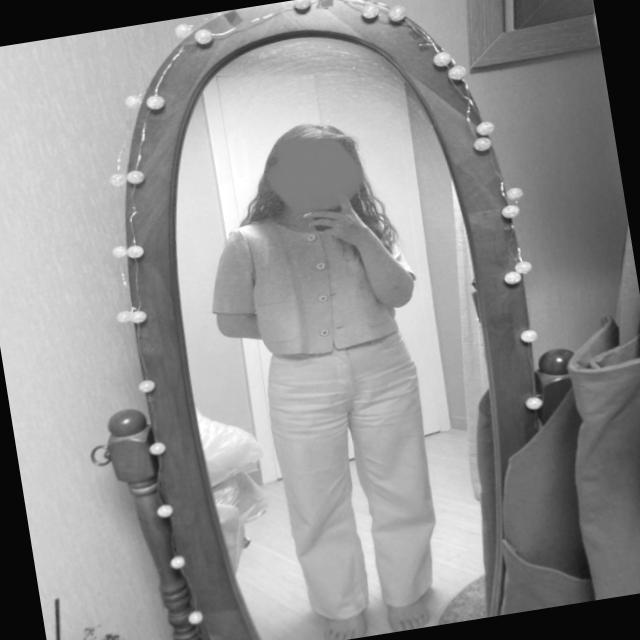blazer: (202, 196, 422, 370)
cottonpants: (257, 328, 455, 626)
